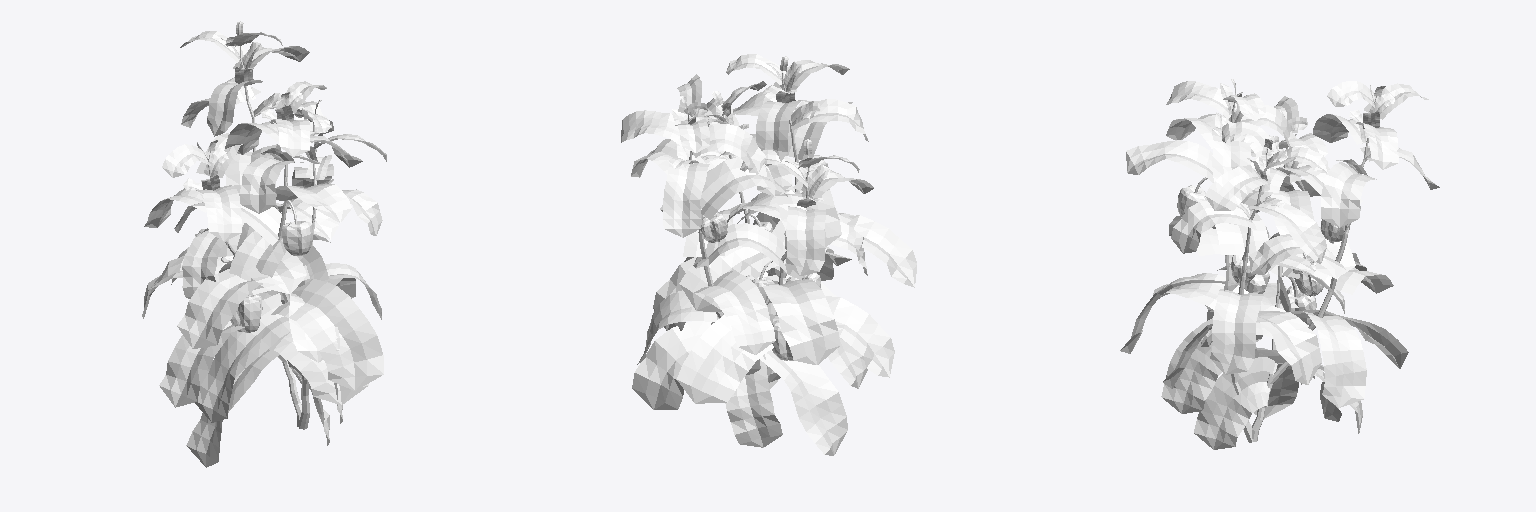
File: Growing4.obj
The picture shows the model from 3 angles: view 1: azimuth 30°, elevation 25°; view 2: azimuth 150°, elevation 25°; view 3: azimuth 270°, elevation 25°; orthographic projection.
Parts seen in each view (by area): view 1: VG07_6; view 2: VG07_6; view 3: VG07_6.
Boxes of the visible parts, x1,y1,x2,y2 form: VG07_6: [142, 21, 386, 467]; VG07_6: [621, 54, 916, 455]; VG07_6: [1120, 79, 1439, 449].
Bounding box in the file's own units: 0.5014 × 0.8547 × 0.6483.